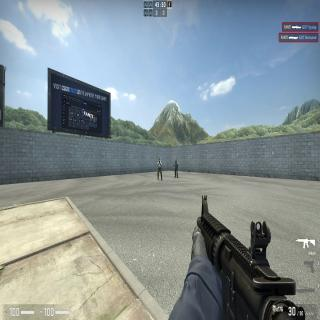CT-Body: (156, 158, 162, 180)
CT-Head: (159, 159, 160, 163)
T-Body: (175, 159, 178, 177)
T-Head: (175, 159, 177, 163)
